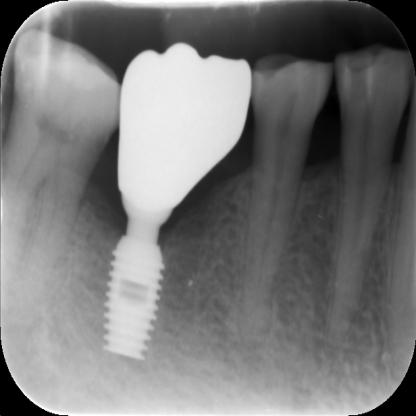Bicon: (88, 232, 186, 356)
